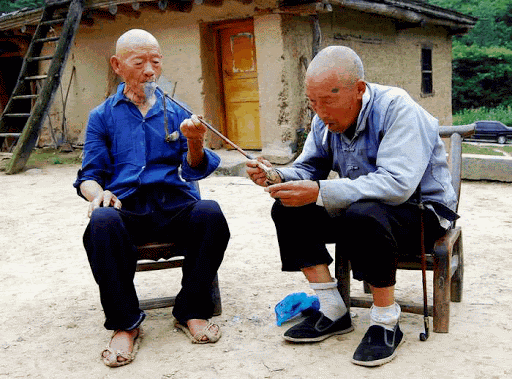Person: (238, 25, 475, 367), (69, 23, 243, 369)
